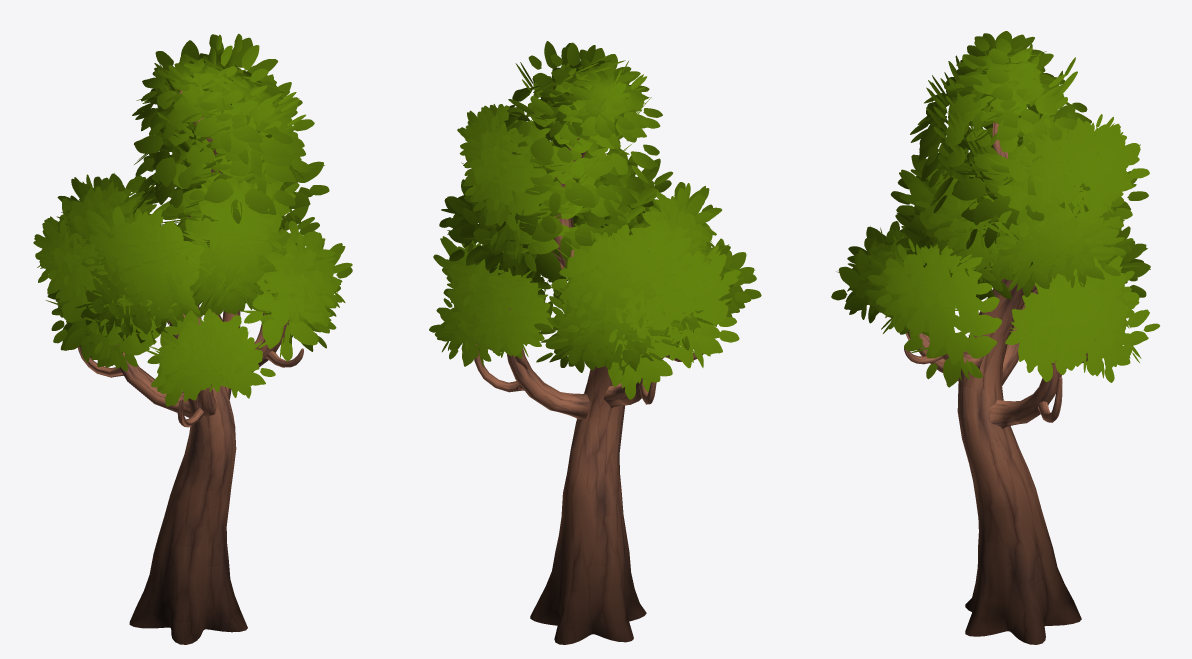
The model's file is tree_2.glb.
3 views of the same model, side by side, from view 1: azimuth 30°, elevation 25°; view 2: azimuth 150°, elevation 25°; view 3: azimuth 270°, elevation 25° (orthographic). The views are drawn at different scales.
Parts seen in each view (by area): view 1: CommonTree_2; view 2: CommonTree_2; view 3: CommonTree_2.
Boxes of the visible parts, x1,y1,x2,y2 form: CommonTree_2: (33, 34, 352, 644); CommonTree_2: (429, 41, 761, 644); CommonTree_2: (831, 31, 1159, 644).
Size of the model in its own units: 4.46 by 7.64 by 4.28.
2 materials, 2 textured.
